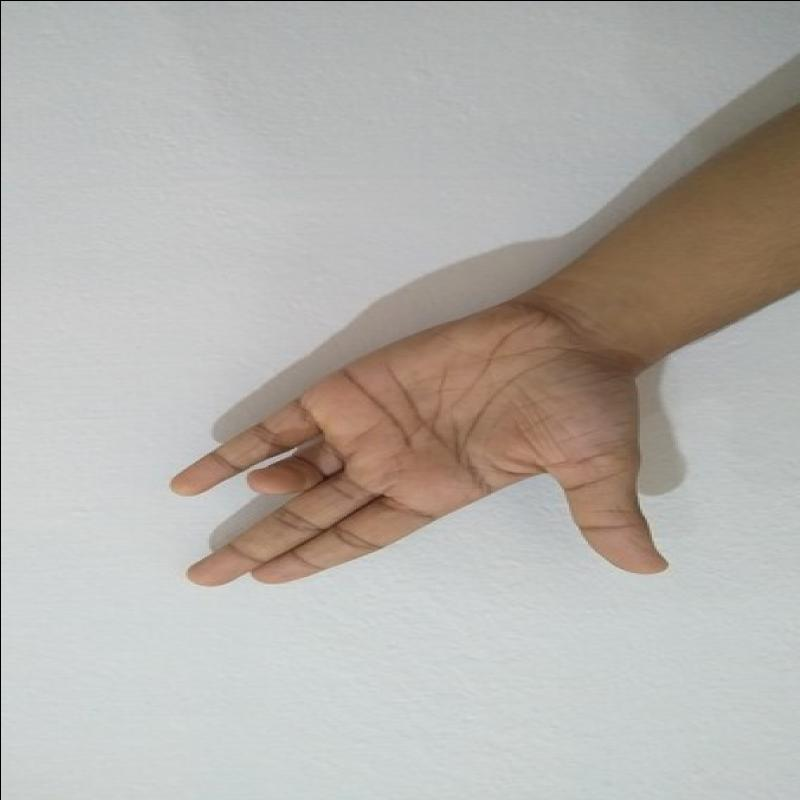Pathaaka: (163, 286, 678, 615)
